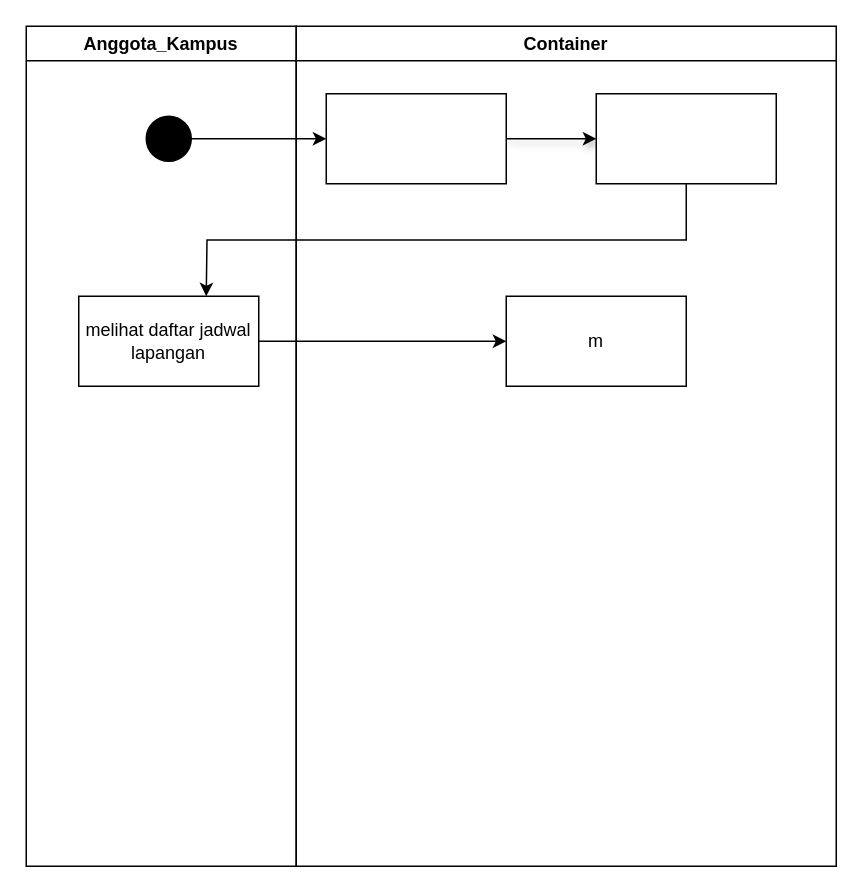
This 863x893 diagram has some shape labels left out. The centre of each missing label's shape, as x and y in pixels:
dashboard dengan role (anggota kampus): the point at 685,138
login: the point at 415,138
